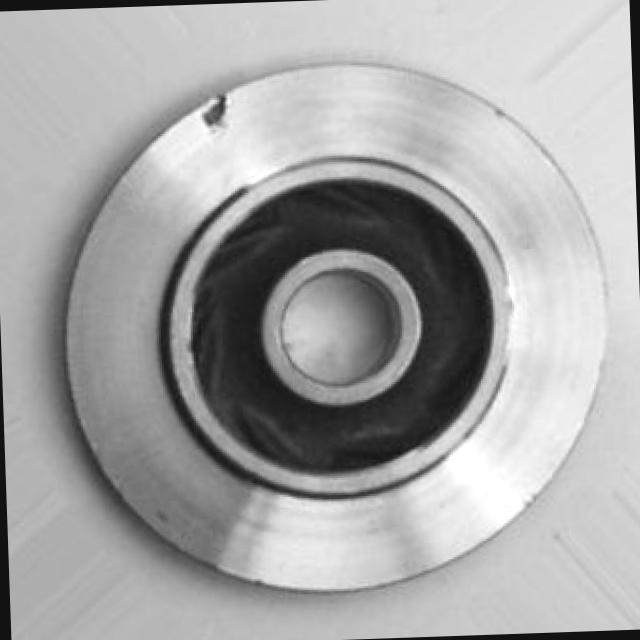Defect: (196, 89, 243, 132)
